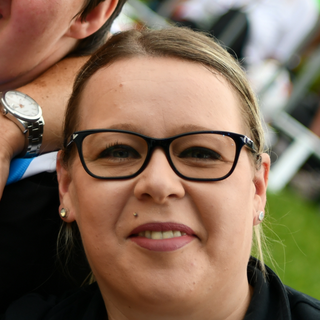eye: (91, 140, 142, 165), (173, 144, 226, 165)
